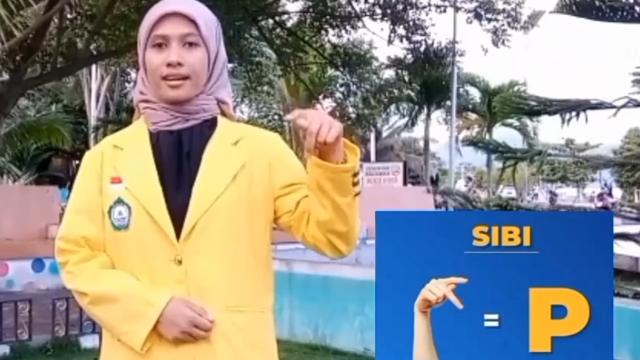P: (413, 274, 471, 320)
